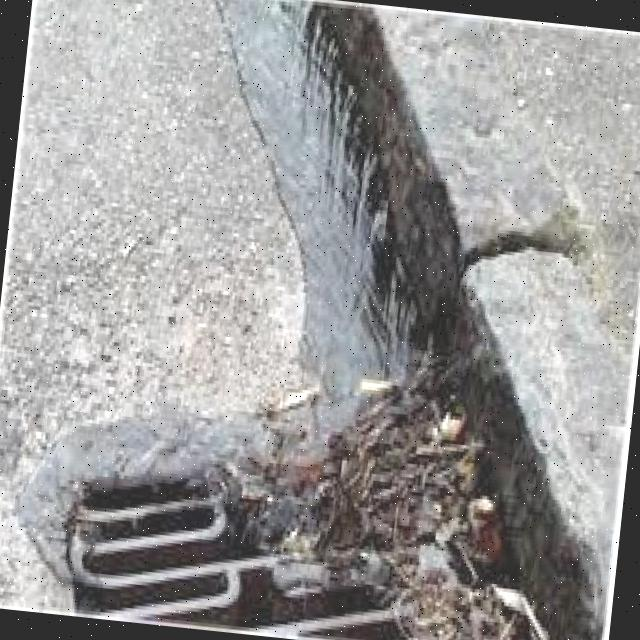curb: (254, 1, 566, 258), (406, 263, 640, 598)
